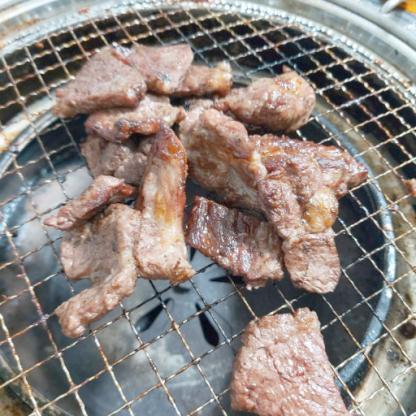Carne: (181, 97, 354, 295), (220, 310, 346, 416), (120, 113, 190, 277), (59, 200, 142, 338), (216, 68, 321, 134), (60, 42, 150, 115), (32, 177, 128, 226), (114, 35, 190, 94)
